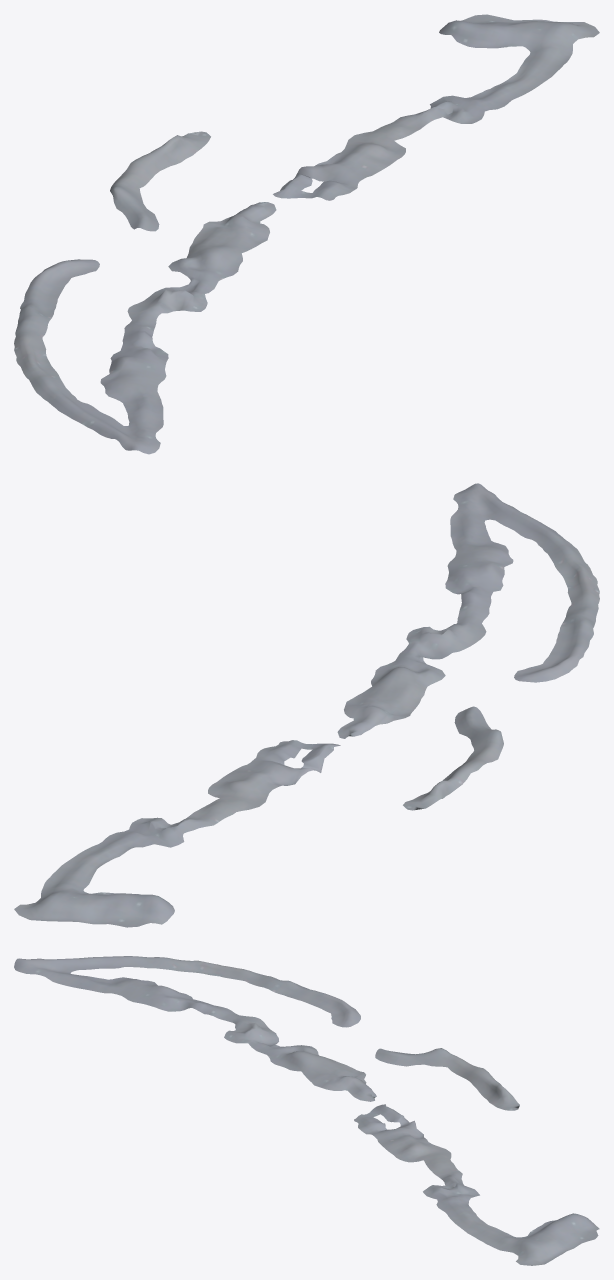
The model's file is pref_sm_beach_winter_blocksnow08_lv3.fbx.
3 renders of one model, top to bottom at view 1: azimuth 30°, elevation 25°; view 2: azimuth 210°, elevation 25°; view 3: azimuth 270°, elevation 25°, orthographic. The views are drawn at different scales.
Parts seen in each view (by area): view 1: pref_sm_beach_winter_blocksnow08_lv3; view 2: pref_sm_beach_winter_blocksnow08_lv3; view 3: pref_sm_beach_winter_blocksnow08_lv3.
Boxes of the visible parts, x1=… form: pref_sm_beach_winter_blocksnow08_lv3: x1=14, y1=14, x2=599, y2=454; pref_sm_beach_winter_blocksnow08_lv3: x1=14, y1=483, x2=599, y2=927; pref_sm_beach_winter_blocksnow08_lv3: x1=14, y1=956, x2=599, y2=1265.
Bounding box in the file's own units: 47.21 × 1.02 × 37.82.
